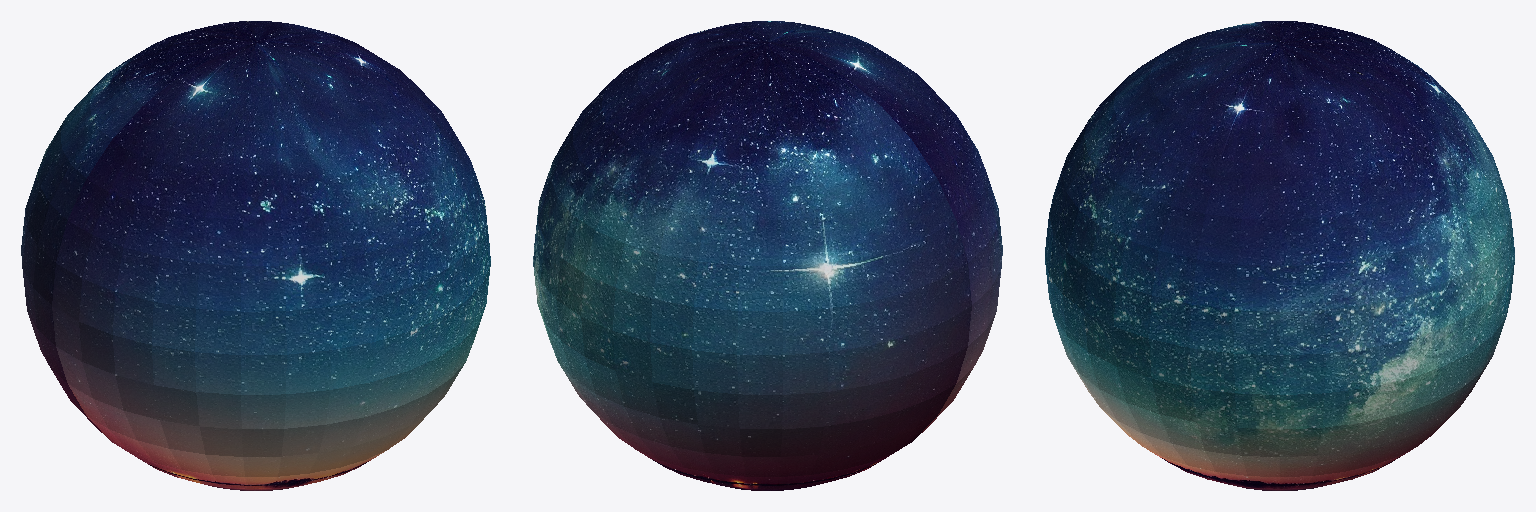
The picture shows the model from 3 angles: view 1: azimuth 30°, elevation 25°; view 2: azimuth 150°, elevation 25°; view 3: azimuth 270°, elevation 25°; orthographic projection.
Visible parts, largest first — view 1: 球; view 2: 球; view 3: 球.
Part boxes in pixels (bbox=[...]): 球: bbox=[21, 21, 490, 490]; 球: bbox=[533, 21, 1002, 490]; 球: bbox=[1045, 21, 1514, 490].
Bounding box in the file's own units: 2 × 2 × 2.
Materials: 1 (1 with a texture image).